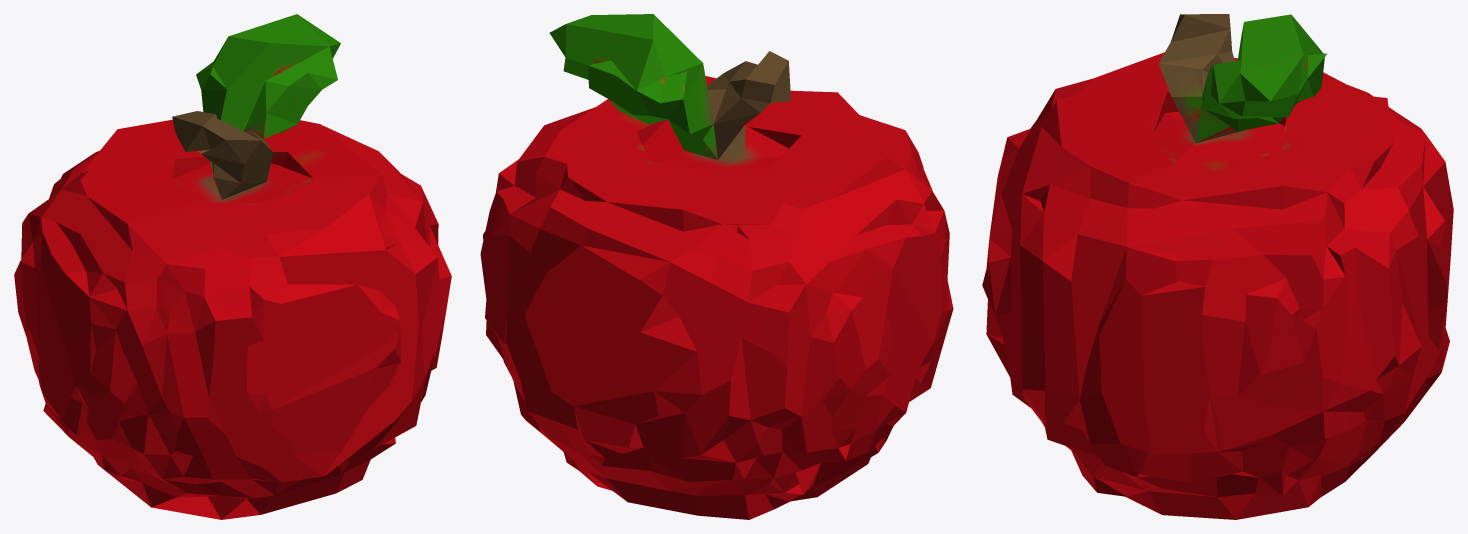
Rendered from apple_vox.glb.
3 views of the same model, side by side, from view 1: azimuth 30°, elevation 25°; view 2: azimuth 150°, elevation 25°; view 3: azimuth 270°, elevation 25° (orthographic). The views are drawn at different scales.
Visible parts, largest first — view 1: tmpmrjmbdj3.ply; view 2: tmpmrjmbdj3.ply; view 3: tmpmrjmbdj3.ply.
Part boxes in pixels (x1,y1,x2,y2): tmpmrjmbdj3.ply: (14,14,451,519); tmpmrjmbdj3.ply: (480,14,953,519); tmpmrjmbdj3.ply: (982,14,1453,519).
Size of the model in its own units: 1.86 by 2 by 1.87.
Materials: 1 (1 with a texture image).
